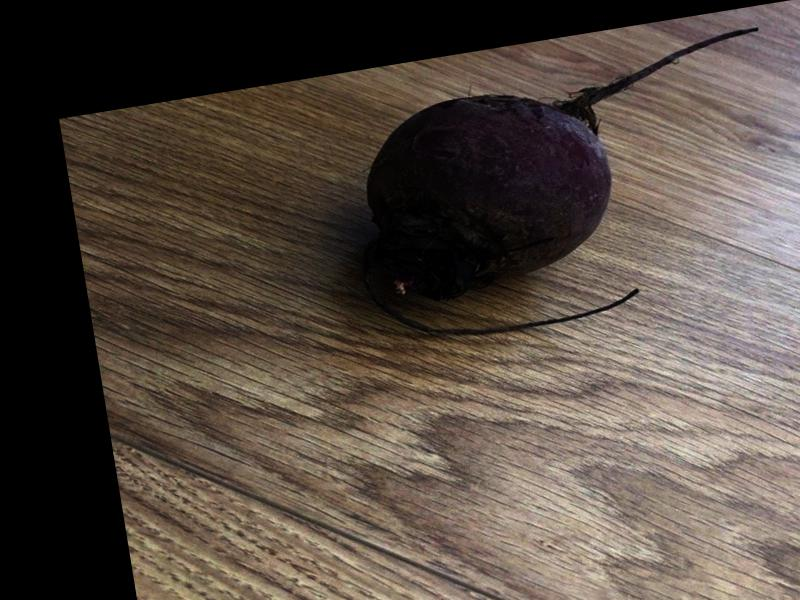Beet: (338, 26, 800, 352)
